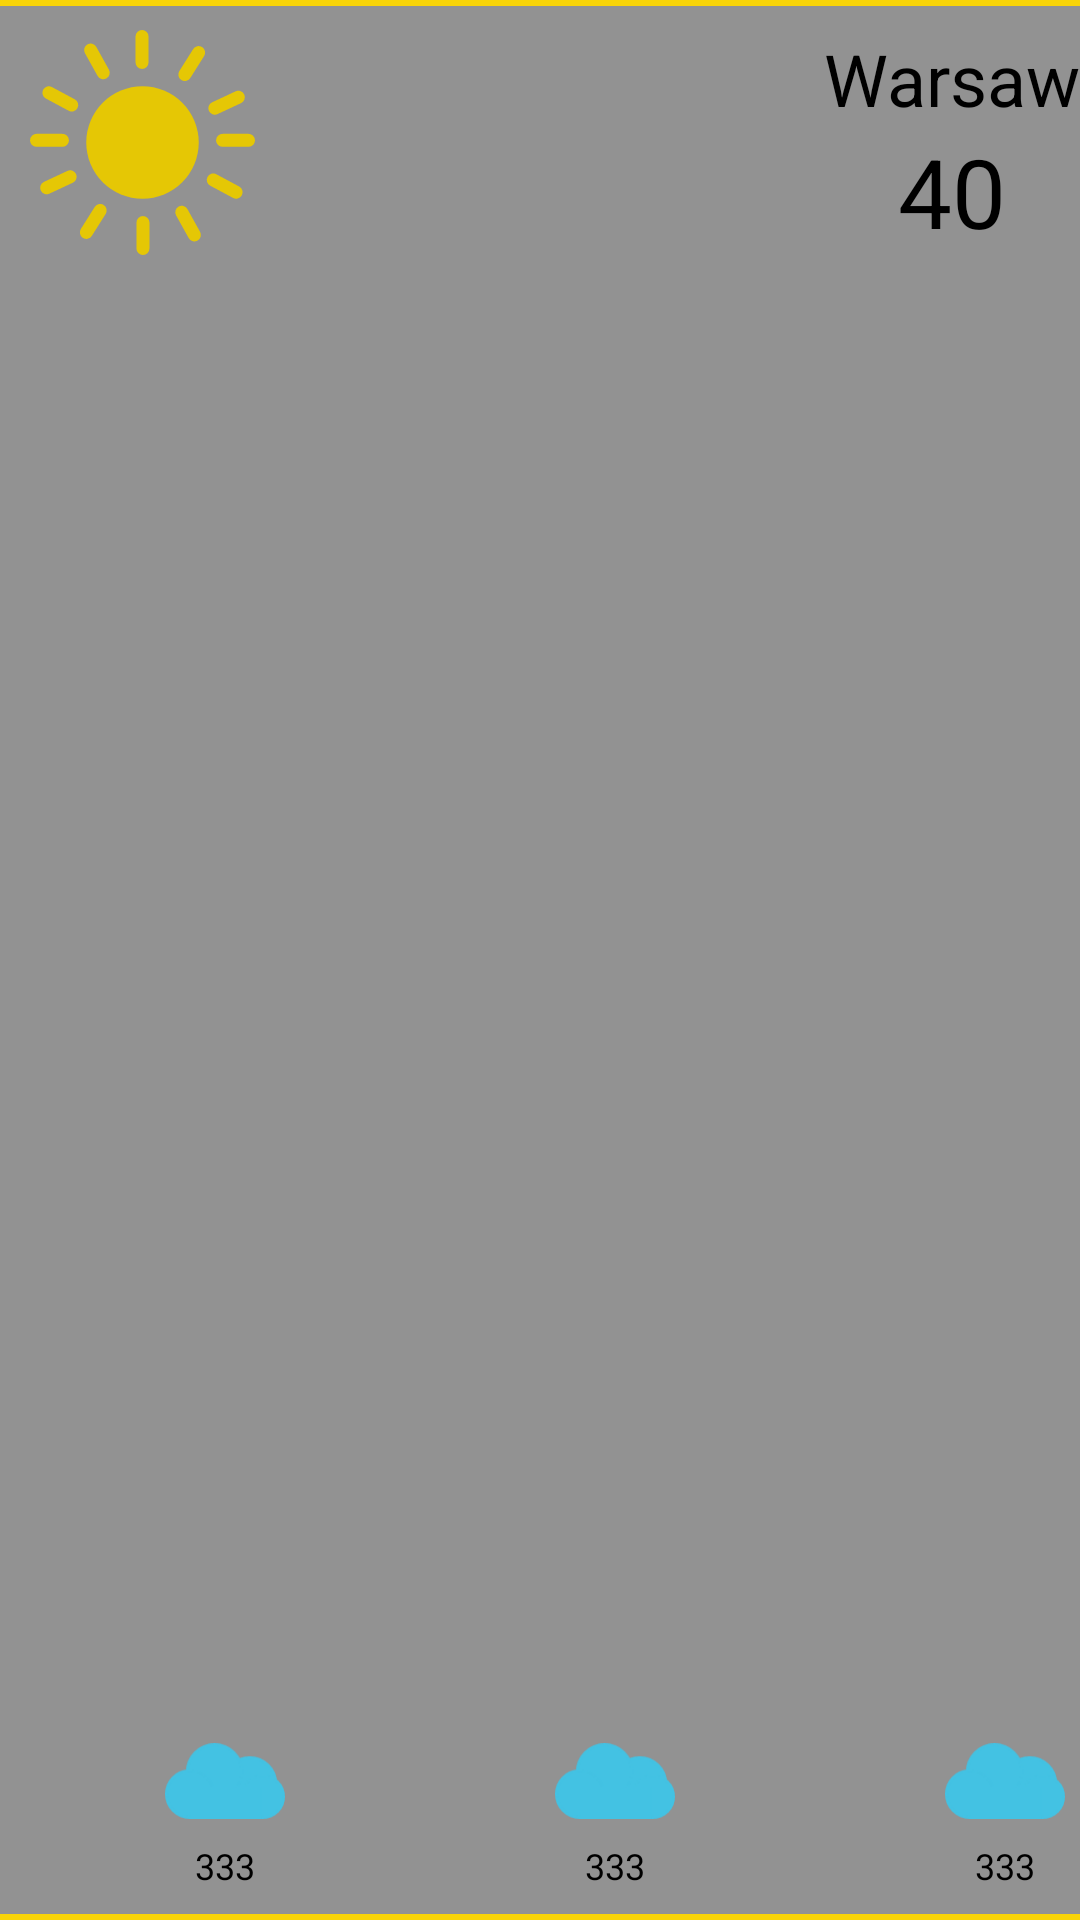

Screen size 1080px x 1920px. Icon name, then its box in pixels as (x1, y1, x2, y2):
cloudy: (165, 1743, 285, 1819), (555, 1743, 675, 1819), (945, 1743, 1065, 1819)
sunny: (30, 30, 255, 255)
